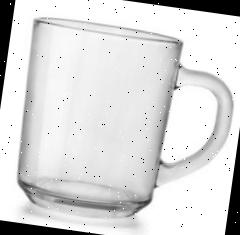glass: (6, 13, 240, 235)
